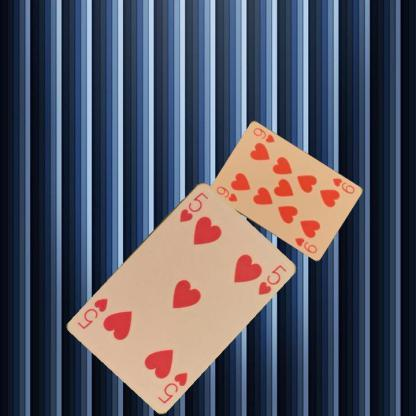5h: (155, 368, 189, 404), (177, 189, 210, 223)
9h: (329, 175, 356, 195), (214, 184, 238, 204)
